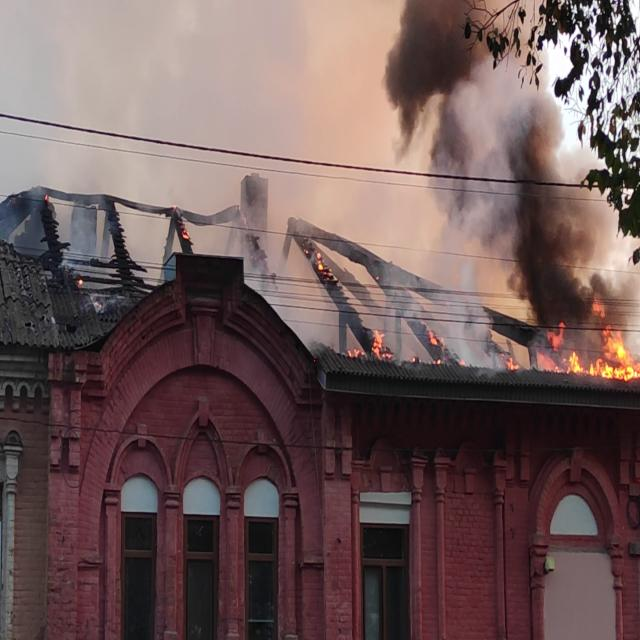fire: (569, 308, 640, 386)
smoke: (386, 0, 478, 110), (520, 147, 581, 302)
